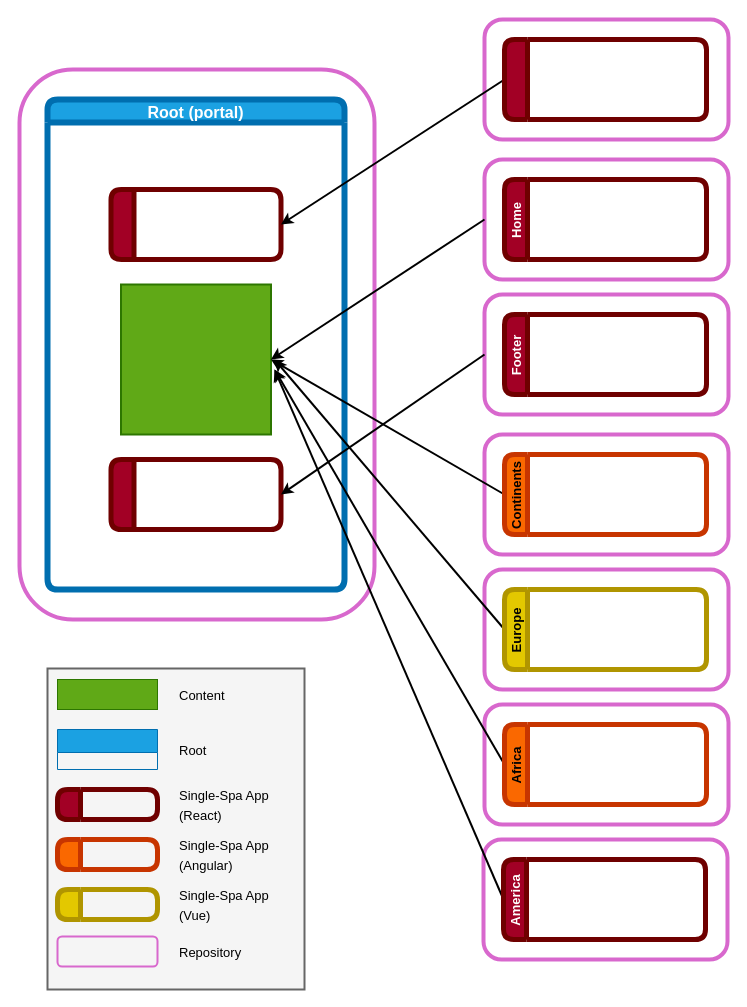
The diagram is 747 pixels wide and 1007 high, and some of its shapes have lost their labels. Each missing label, with the centre of its shape:
/ or /home /continents /europe /africa /america: point 196,359
Header: point 605,79
